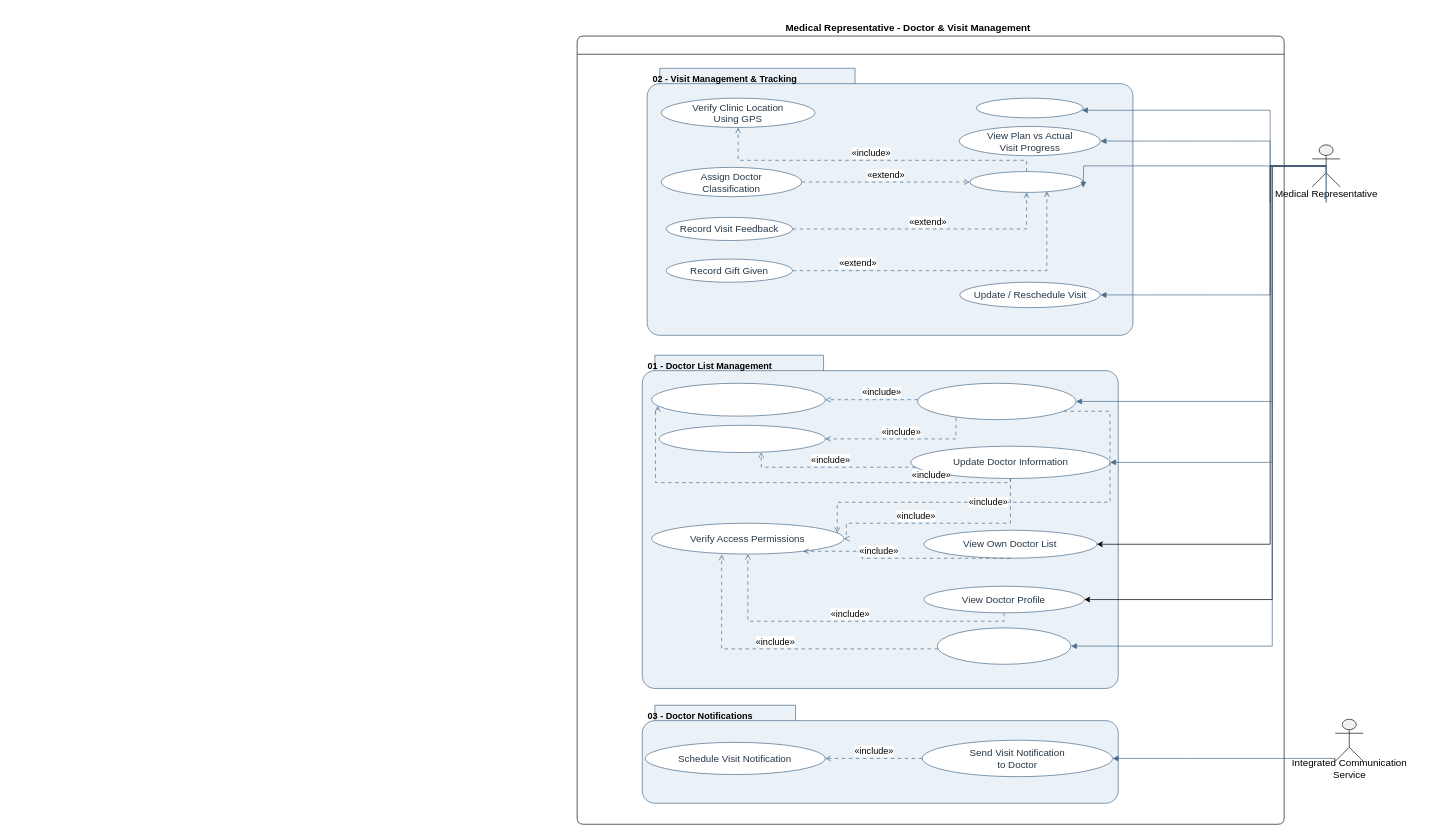
This 1451x837 diagram has some shape labels left out. The box of each missing label's shape, as (x1, y1, x2, y2) in pixels:
Add Doctor to Own Doctor List: (917, 383, 1076, 420)
Check for Duplicate Doctor: (651, 383, 825, 416)
Delete Doctor from Own Doctor List: (937, 627, 1071, 664)
Doctor & Visit Management: (576, 35, 1284, 824)
Record Doctor Visit: (969, 171, 1083, 192)
Validate Doctor Data: (658, 425, 825, 453)
View Visit History: (975, 97, 1083, 118)
